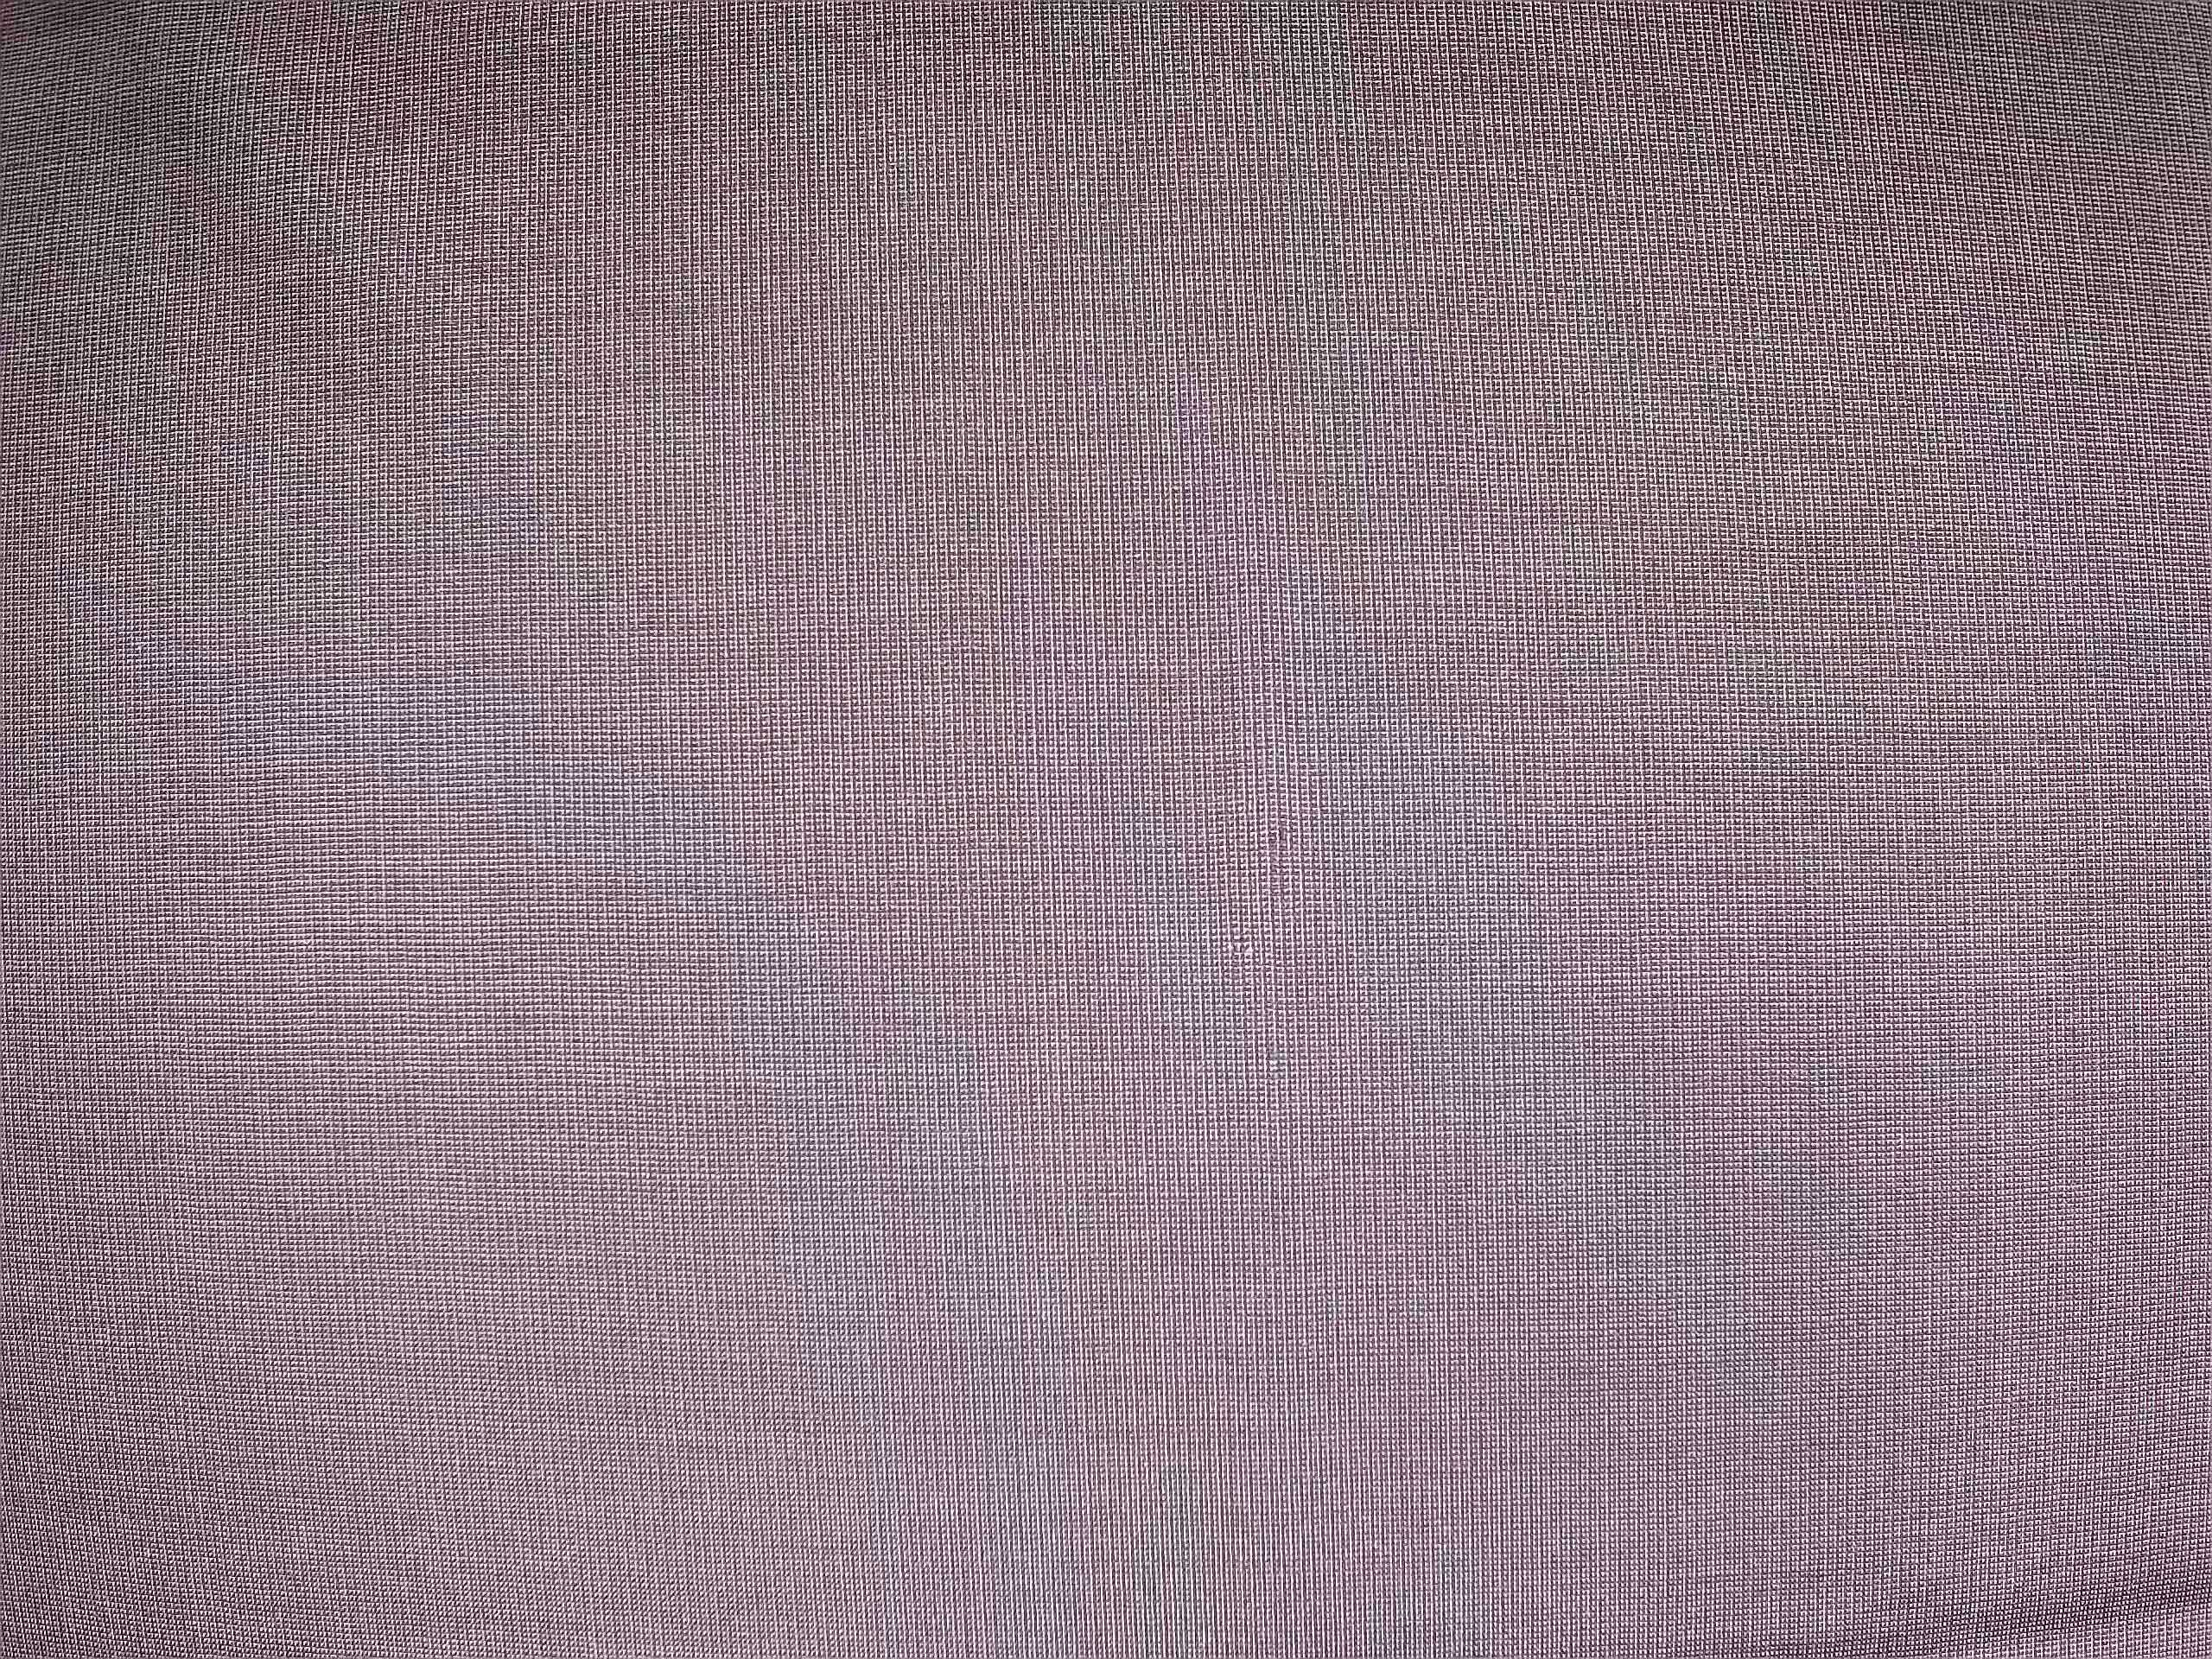rubbing-hole: (1212, 918, 1271, 983)
